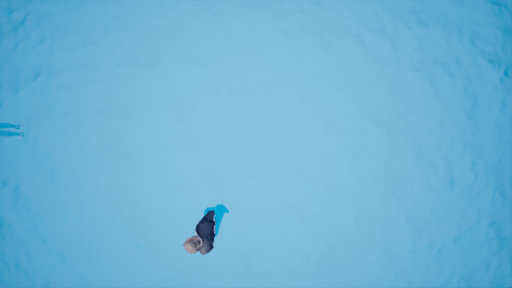person: (177, 201, 233, 258)
